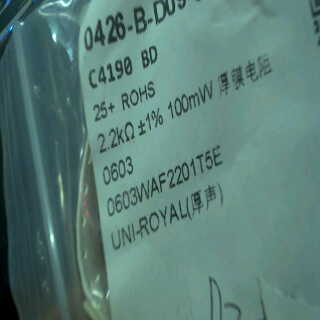2.2kR: (95, 118, 136, 155)
